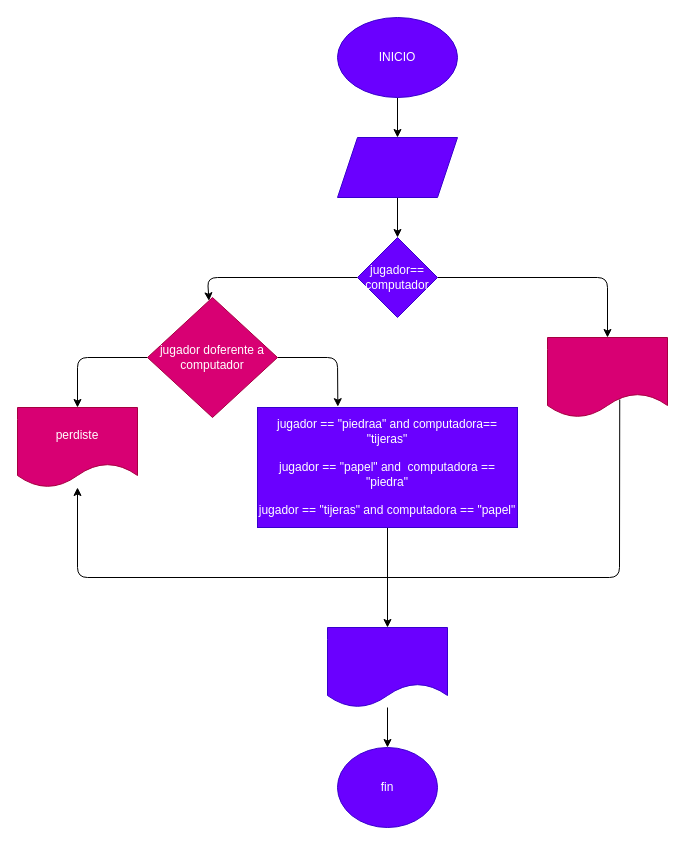
Image size: 685x845. Some labels were removed from this diagram. Here are the shapes that lost their labels. From the top down, the centre of each, then its label:
At (397,167): "piedra,papel,tijera".
At (607,377): "empate".
At (387,667): "ganastes".
